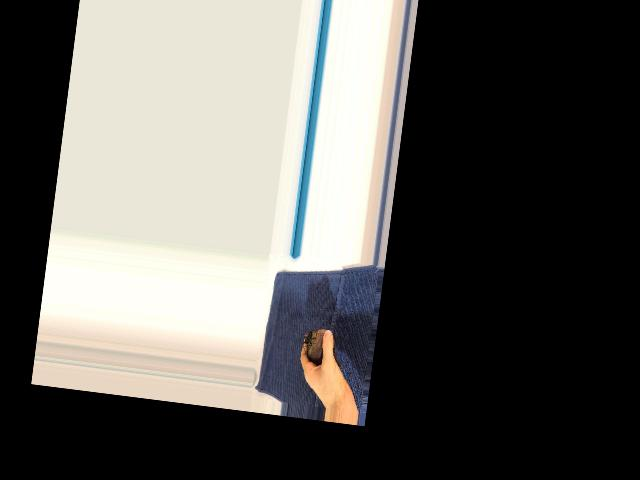beet: (301, 326, 348, 367)
